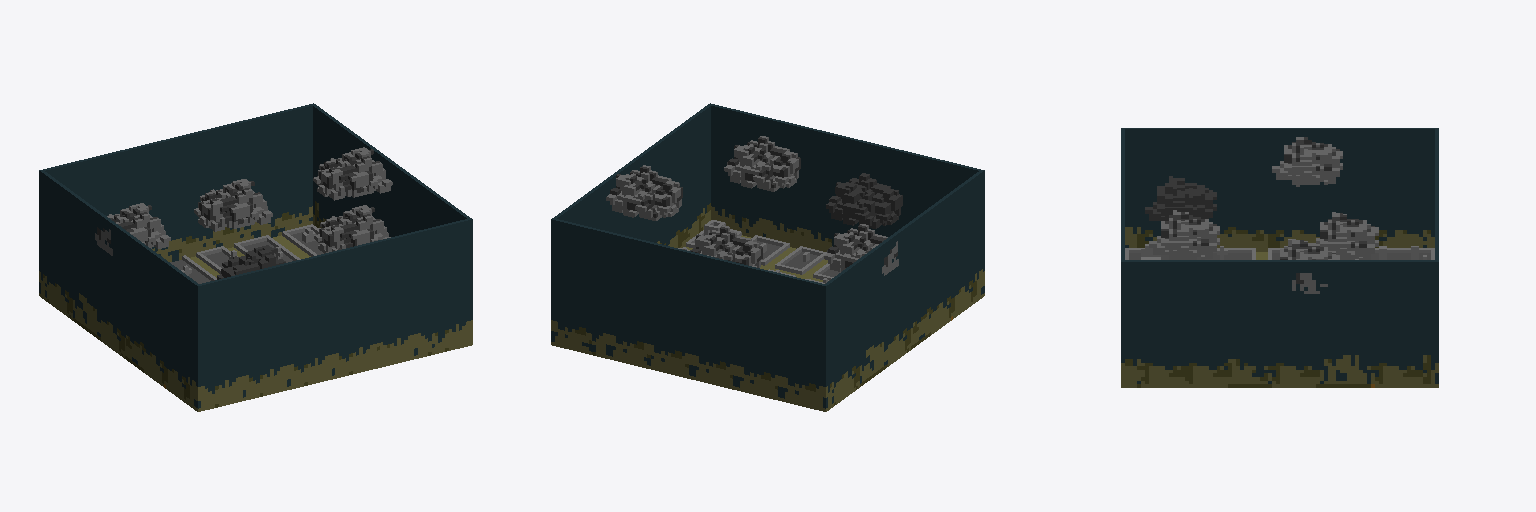
3 renders of one model, left to right at view 1: azimuth 30°, elevation 25°; view 2: azimuth 150°, elevation 25°; view 3: azimuth 270°, elevation 25°, orthographic.
Parts seen in each view (by area): view 1: object 1; view 2: object 1; view 3: object 1.
Boxes of the visible parts, <box> form: object 1: <box>39,103,472,411</box>; object 1: <box>551,103,984,411</box>; object 1: <box>1121,128,1438,387</box>.
Bounding box in the file's own units: 8 × 3.6 × 8.
1 materials, 1 textured.